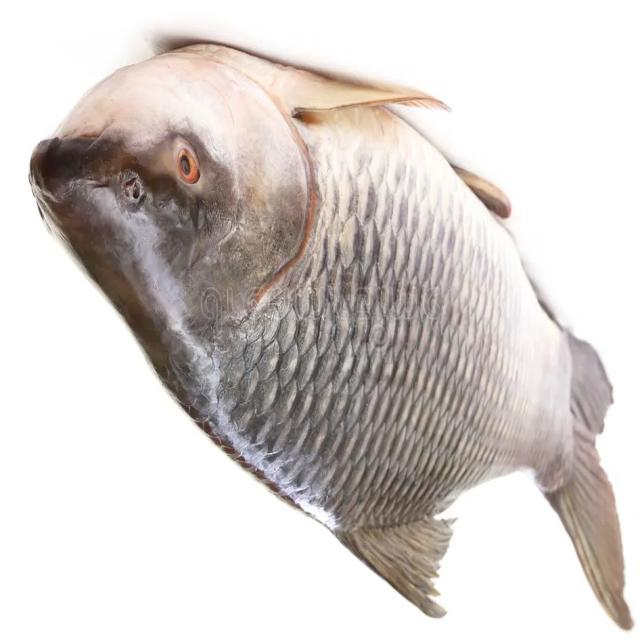Rohu: (26, 43, 636, 634)
